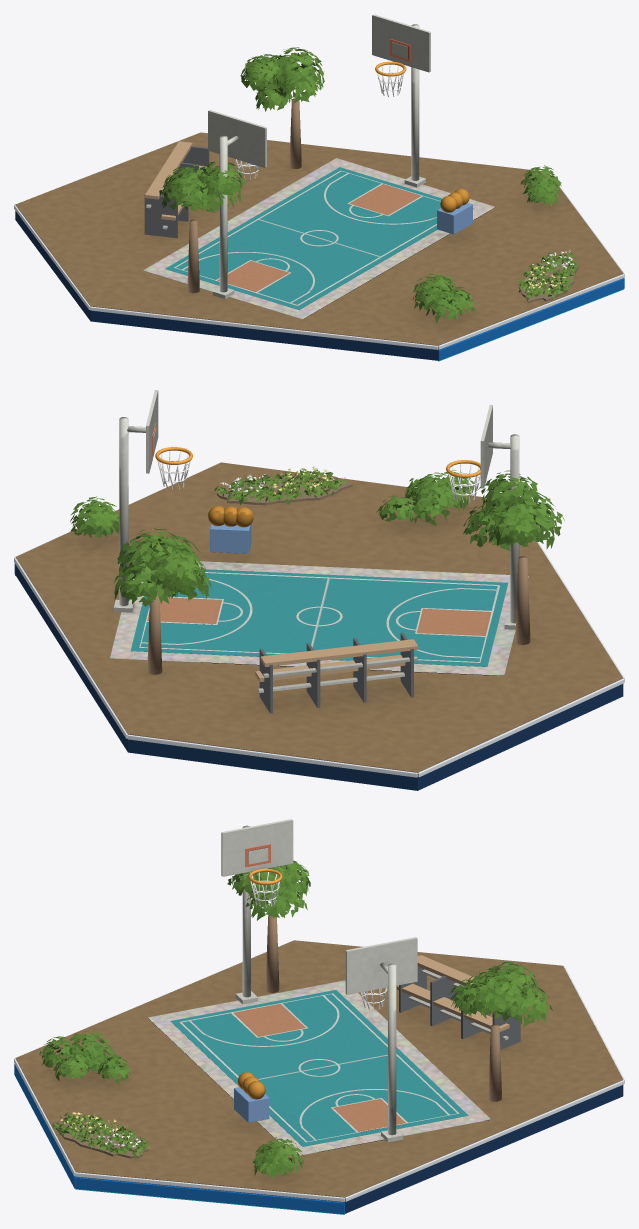
Rendered from field_cm30_01.glb.
The picture shows the model from 3 angles, top to bottom: view 1: azimuth 30°, elevation 25°; view 2: azimuth 150°, elevation 25°; view 3: azimuth 270°, elevation 25°; orthographic projection. The views are drawn at different scales.
Visible parts, largest first — view 1: field_cm30_01-refined; view 2: field_cm30_01-refined; view 3: field_cm30_01-refined.
Part boxes in pixels (left/top/right/bottom): field_cm30_01-refined: left=14, top=14, right=624, bottom=361; field_cm30_01-refined: left=14, top=390, right=624, bottom=790; field_cm30_01-refined: left=14, top=819, right=624, bottom=1214.
Size of the model in its own units: 7.87 by 2.86 by 7.87.
Materials: 1 (1 with a texture image).
